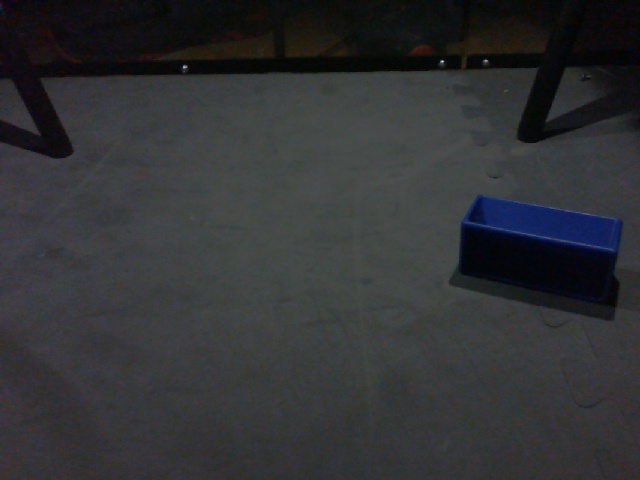BlueSample: (455, 189, 627, 305)
